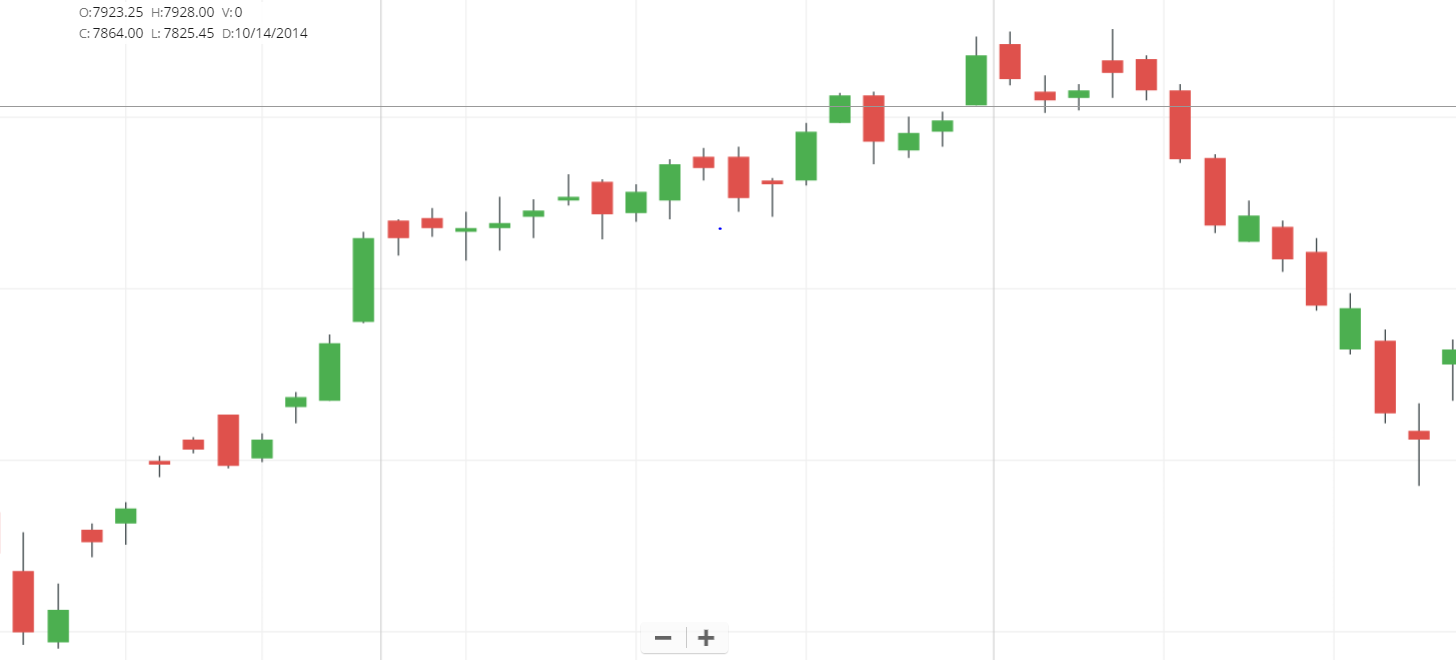doji: (755, 167, 791, 222), (453, 206, 480, 264), (555, 162, 584, 216)
